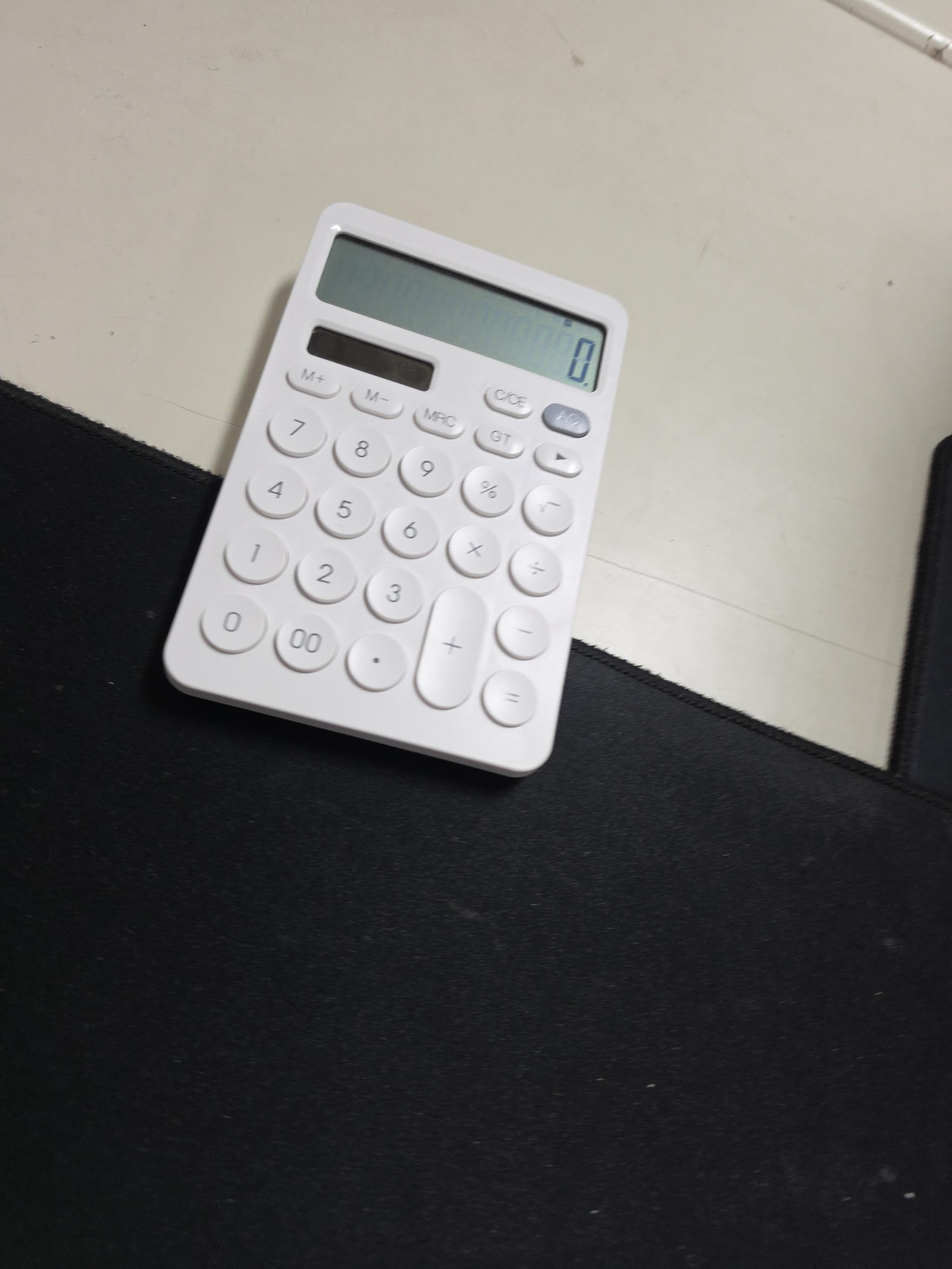calculator: (160, 203, 630, 776)
